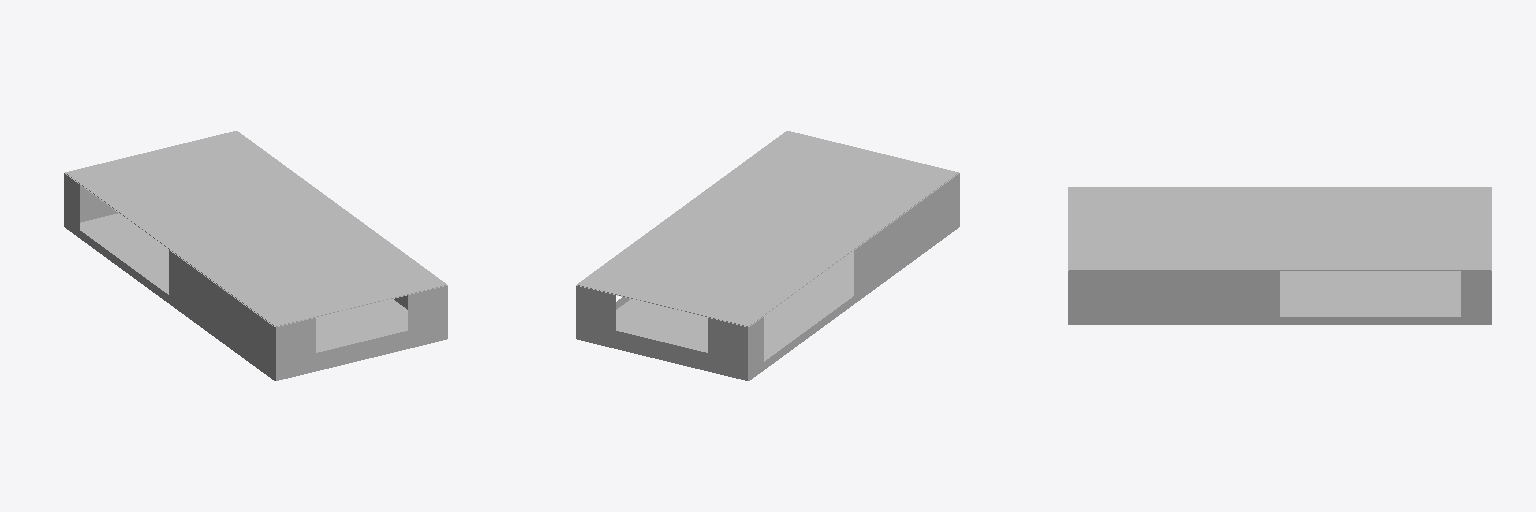
The model's file is MuseoJumexTercerPiso.obj.
3 renders of one model, left to right at view 1: azimuth 30°, elevation 25°; view 2: azimuth 150°, elevation 25°; view 3: azimuth 270°, elevation 25°, orthographic.
Visible parts, largest first — view 1: Cube.001; view 2: Cube.001; view 3: Cube.001.
Boxes of the visible parts, <box> form: Cube.001: <box>64,131,447,380</box>; Cube.001: <box>576,131,959,380</box>; Cube.001: <box>1068,187,1491,324</box>.
Size of the model in its own units: 40.4 by 12.2 by 85.4.